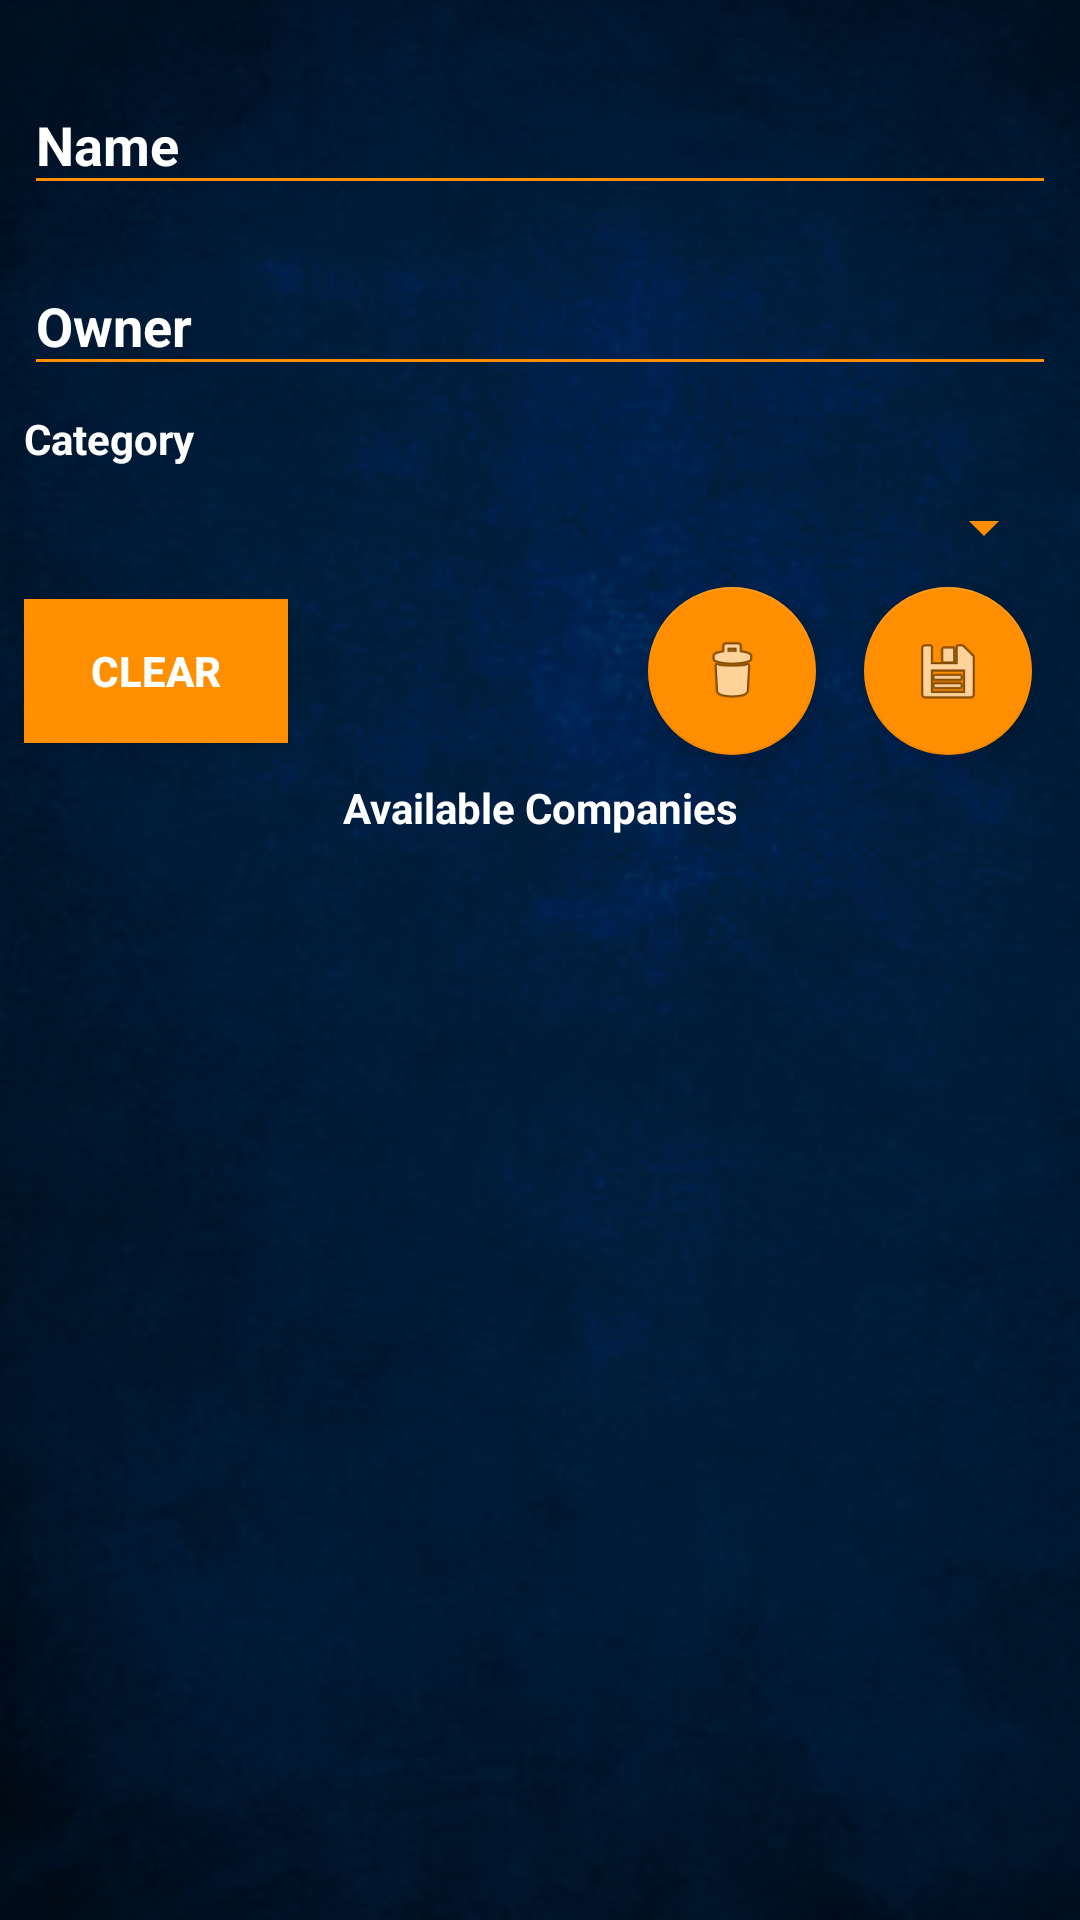

Icon click points for this 1080w x 1920h phone screenshot, format point (x, y):
delete: point (732, 671)
save: point (948, 671)
